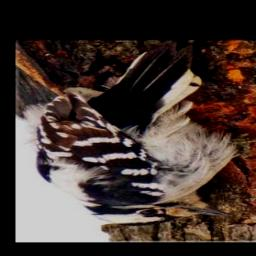Woodpecker: (21, 41, 256, 230)
